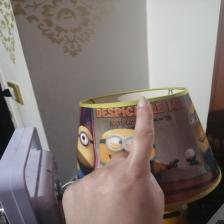one: (59, 97, 169, 222)
